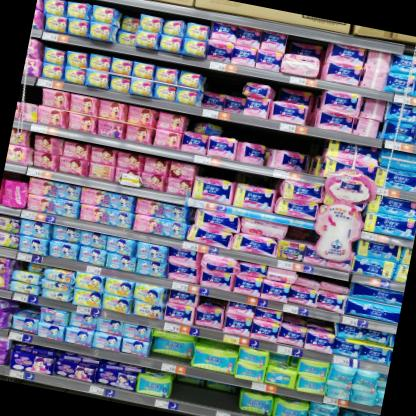empty_space: (171, 381, 240, 412)
